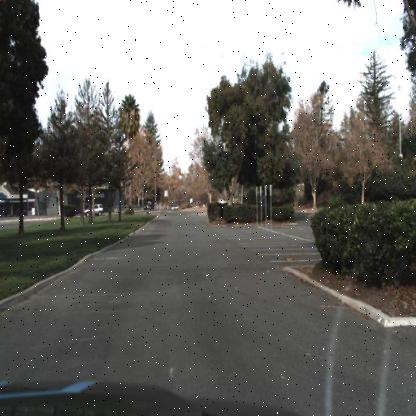car: (80, 198, 104, 219)
